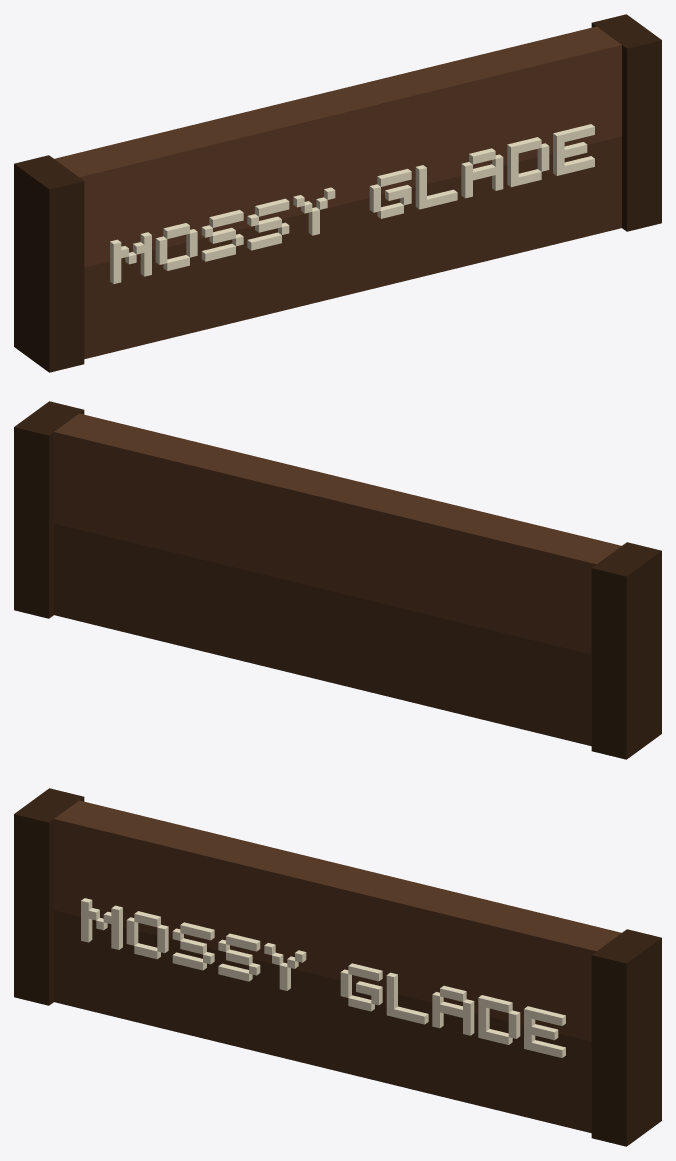
Rendered from Lobby_PortalSignMossy.glb.
The picture shows the model from 3 angles, top to bottom: view 1: azimuth 30°, elevation 25°; view 2: azimuth 150°, elevation 25°; view 3: azimuth 330°, elevation 25°; orthographic projection.
Visible parts, largest first — view 1: sign_plank_high, sign_plank_low, sign_battens, sign_text; view 2: sign_plank_high, sign_plank_low, sign_battens; view 3: sign_plank_high, sign_plank_low, sign_battens, sign_text.
Boxes of the visible parts, x1,y1,x2,y2 form: sign_plank_high: [54, 26, 621, 267]; sign_plank_low: [84, 136, 621, 359]; sign_battens: [14, 14, 661, 372]; sign_text: [110, 124, 594, 283]; sign_plank_high: [54, 413, 621, 654]; sign_plank_low: [54, 523, 591, 746]; sign_battens: [14, 401, 661, 759]; sign_plank_high: [54, 800, 621, 1041]; sign_plank_low: [54, 910, 591, 1133]; sign_battens: [14, 788, 661, 1146]; sign_text: [81, 898, 565, 1057].
Bounding box in the file's own units: 1.4 × 0.4 × 0.14.
